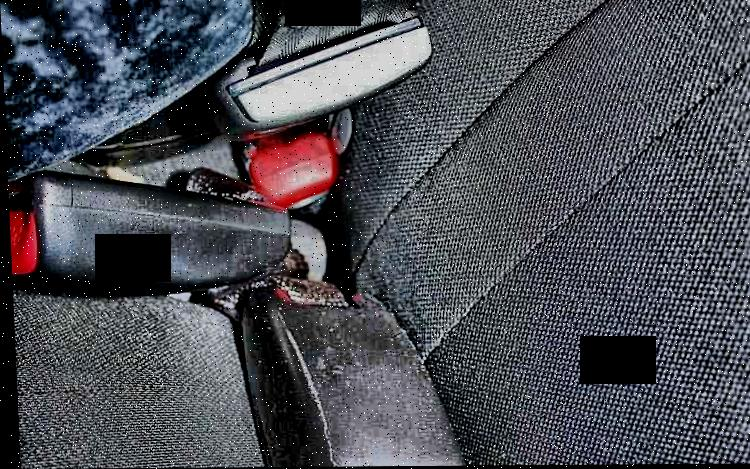seatbelt: (205, 0, 437, 201)
